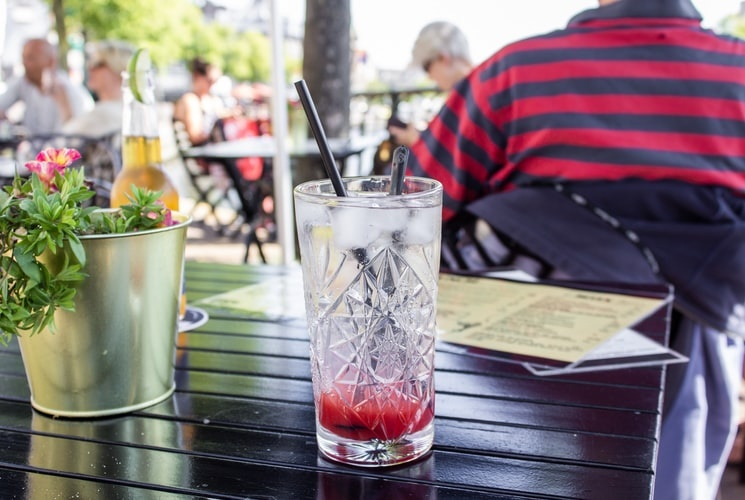whiskey: (299, 169, 441, 460)
